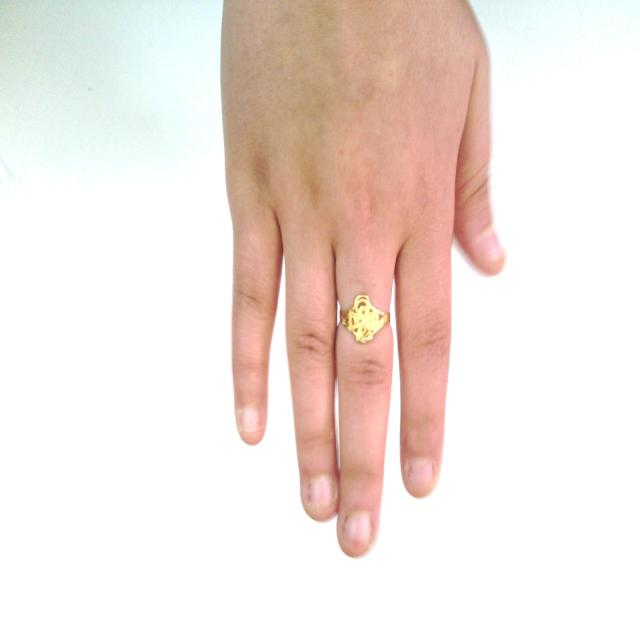hand: (214, 3, 508, 565)
